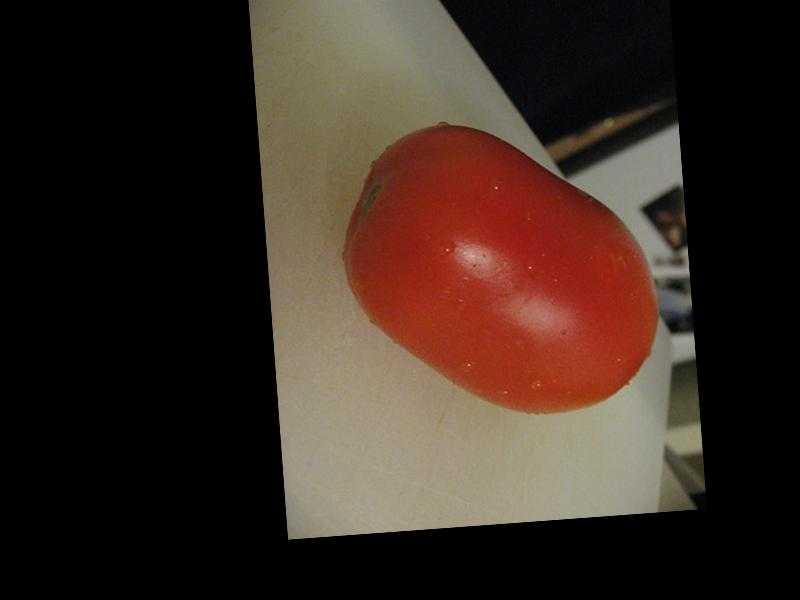Tomato: (336, 109, 666, 427)
